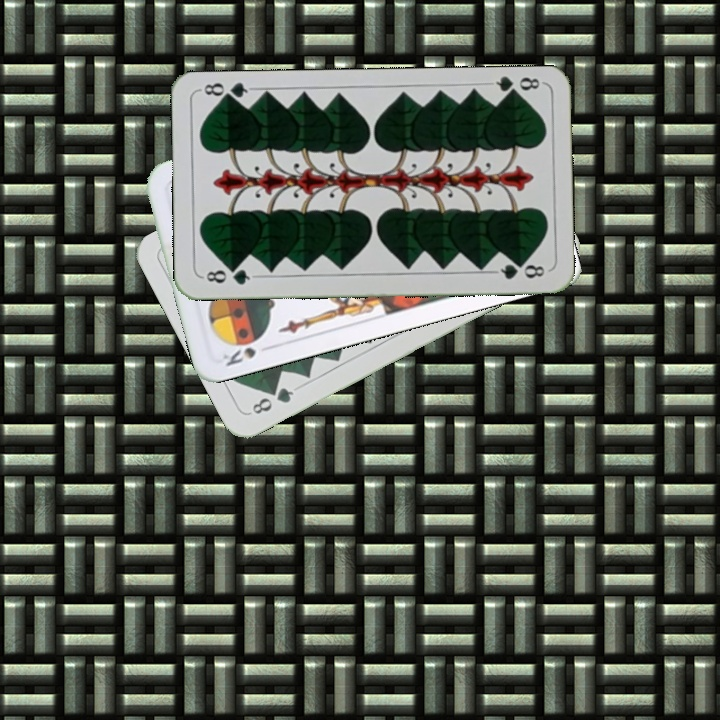G8: (245, 383, 297, 417), (486, 73, 545, 100), (199, 264, 258, 288)
SK: (218, 343, 259, 369)
